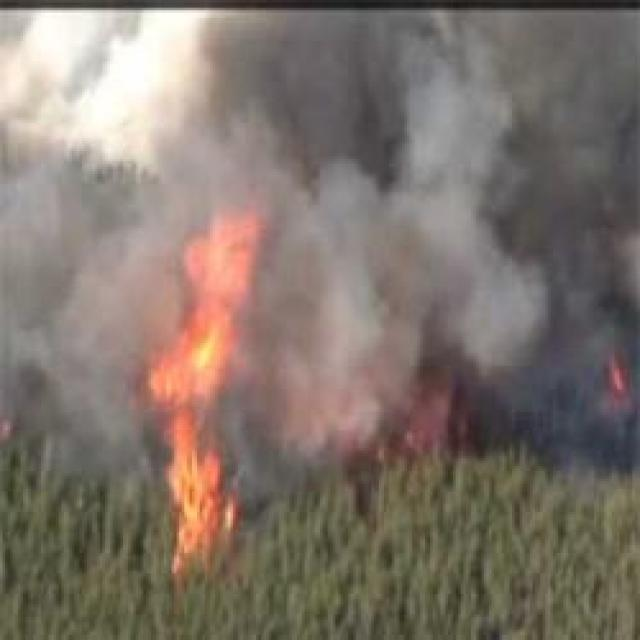smoke: (409, 57, 562, 394), (162, 19, 405, 201), (5, 149, 140, 475), (274, 240, 394, 449)
